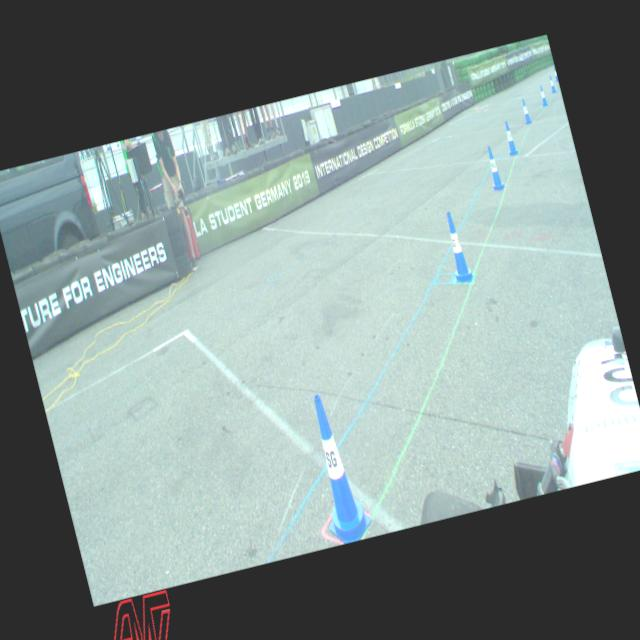blue_cone: (297, 388, 375, 545), (438, 209, 476, 285), (483, 144, 505, 190), (501, 119, 518, 156), (519, 98, 532, 124), (538, 85, 548, 106), (547, 74, 556, 92), (552, 66, 558, 82)
